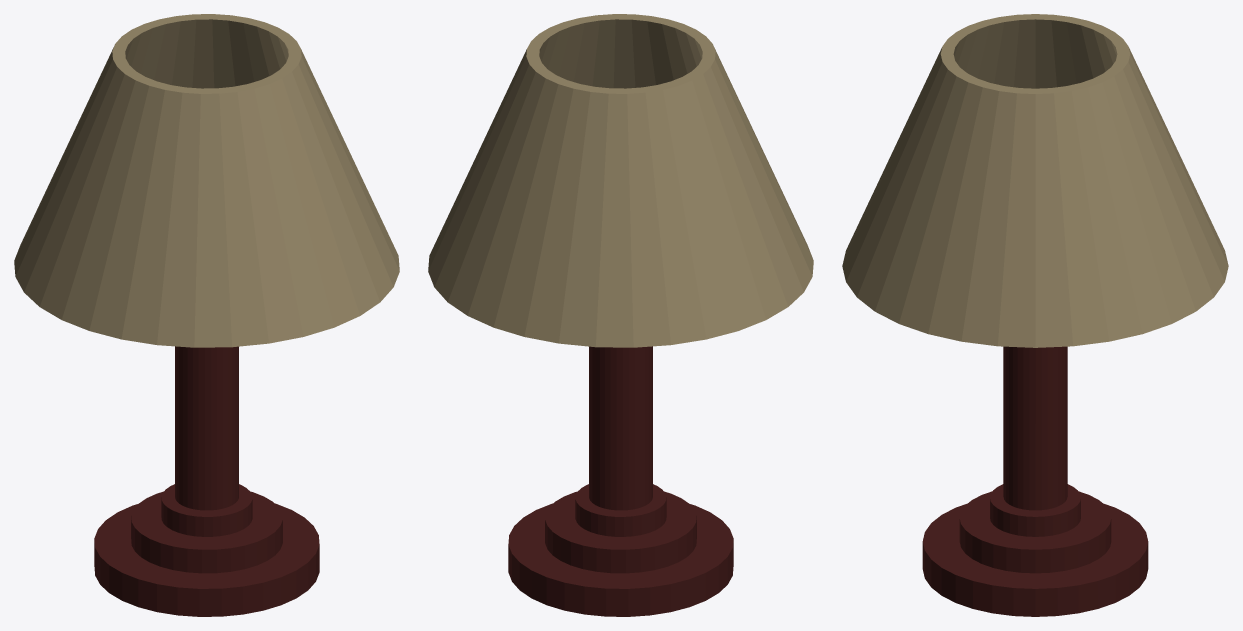
The model's file is Lamp.fbx.
3 views of the same model, side by side, from view 1: azimuth 30°, elevation 25°; view 2: azimuth 150°, elevation 25°; view 3: azimuth 270°, elevation 25° (orthographic).
Visible parts, largest first — view 1: Cylinder, Cylinder.004, Cylinder.001, Cylinder.003, Cylinder.002; view 2: Cylinder, Cylinder.004, Cylinder.001, Cylinder.003, Cylinder.002; view 3: Cylinder, Cylinder.004, Cylinder.001, Cylinder.003, Cylinder.002.
Part boxes in pixels (left/top/right/bottom): Cylinder: left=14, top=14, right=399, bottom=347; Cylinder.004: left=94, top=503, right=319, bottom=616; Cylinder.001: left=175, top=346, right=238, bottom=510; Cylinder.003: left=131, top=491, right=282, bottom=573; Cylinder.002: left=161, top=484, right=252, bottom=536; Cylinder: left=428, top=14, right=813, bottom=347; Cylinder.004: left=508, top=503, right=733, bottom=616; Cylinder.001: left=589, top=346, right=652, bottom=510; Cylinder.003: left=545, top=491, right=696, bottom=573; Cylinder.002: left=575, top=484, right=666, bottom=536; Cylinder: left=842, top=14, right=1228, bottom=347; Cylinder.004: left=922, top=504, right=1148, bottom=616; Cylinder.001: left=1003, top=346, right=1067, bottom=510; Cylinder.003: left=959, top=491, right=1111, bottom=573; Cylinder.002: left=990, top=484, right=1080, bottom=536.
Size of the model in its own units: 587 by 864 by 587.
